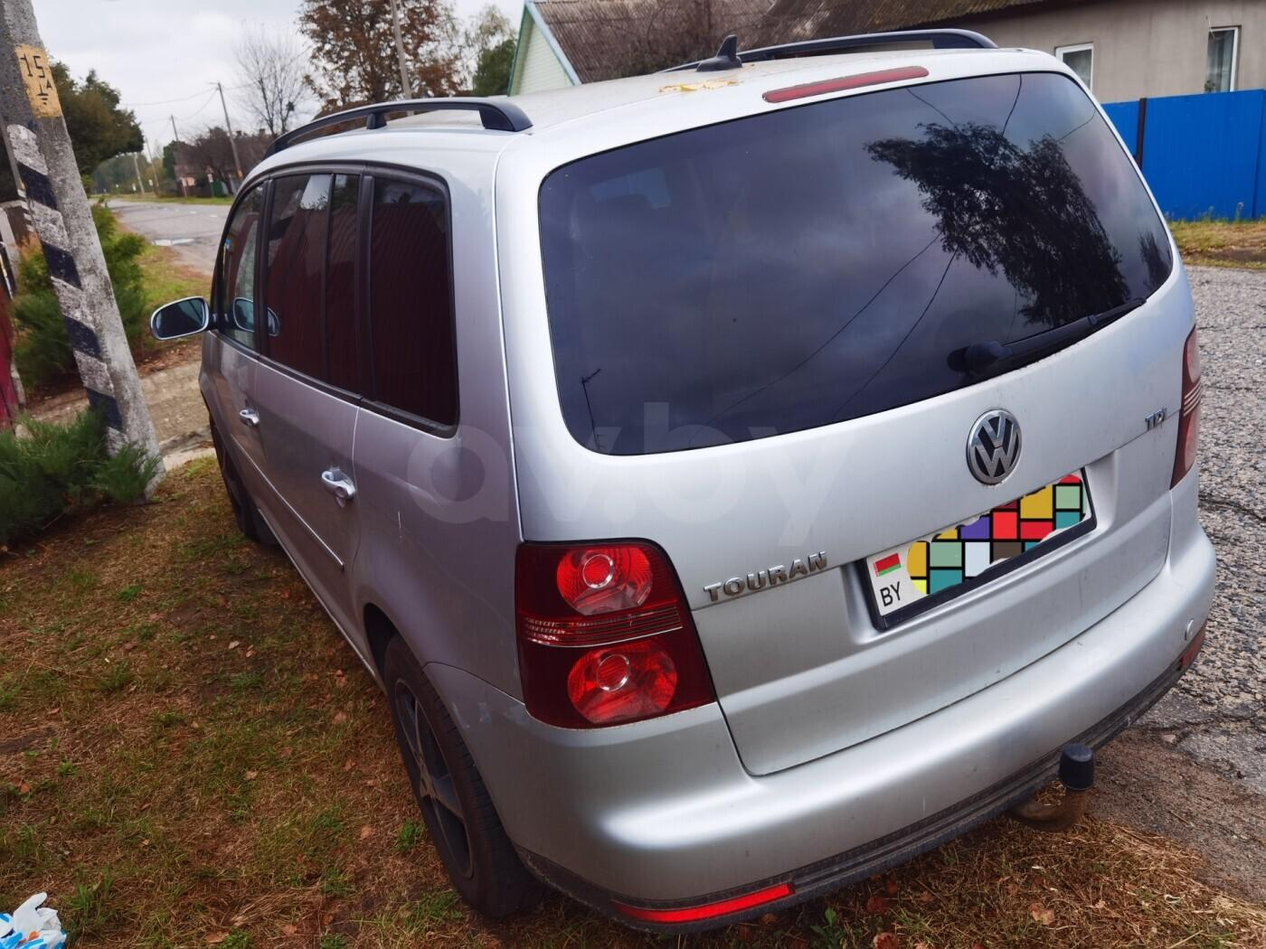Touran_2006-2010: (147, 43, 1213, 936)
